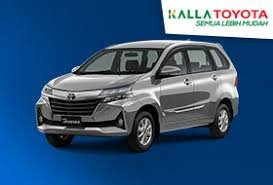mobil: (32, 38, 243, 143)
